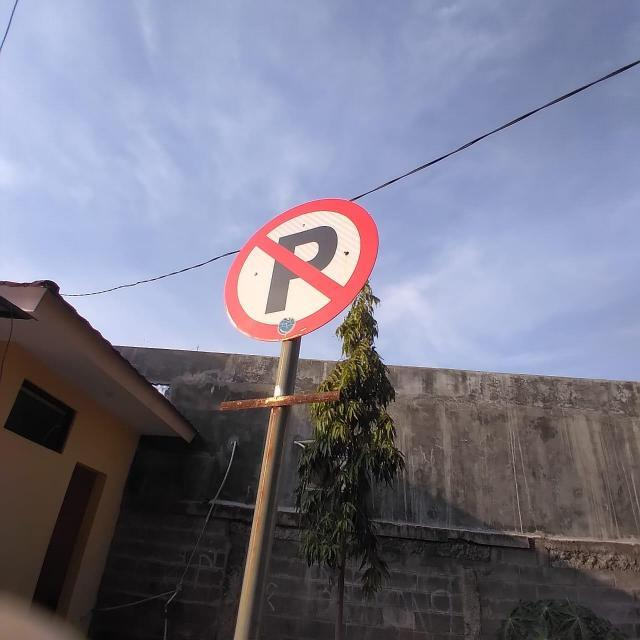traffic sign: (231, 197, 380, 339)
